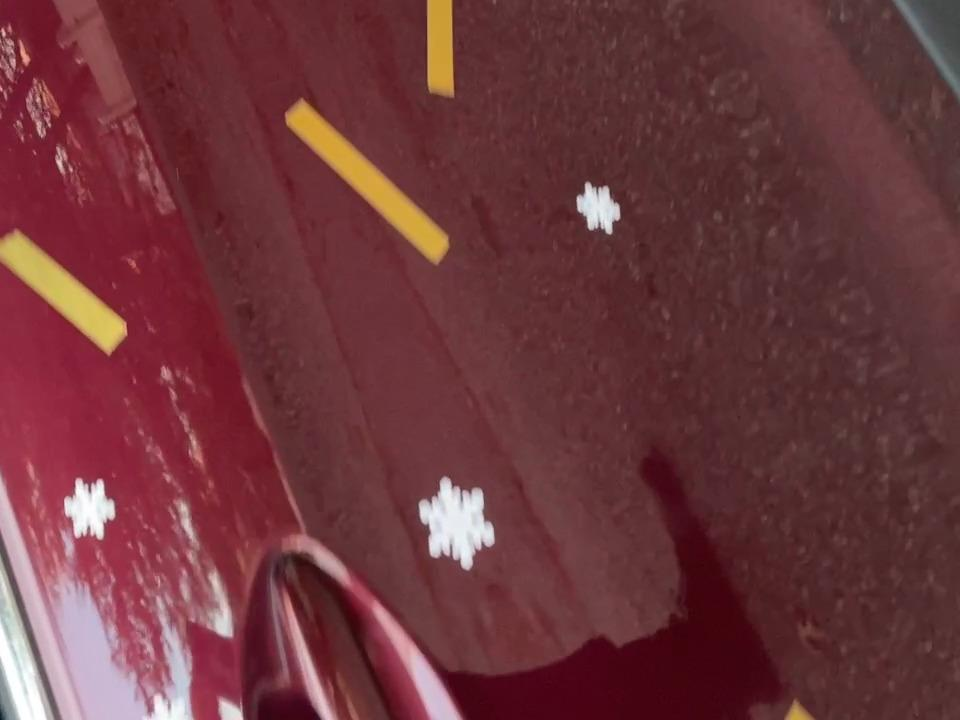dent: (413, 469, 500, 576), (59, 471, 120, 550), (571, 177, 631, 239)
scratch: (279, 93, 462, 275), (0, 220, 142, 358), (416, 0, 467, 106)
